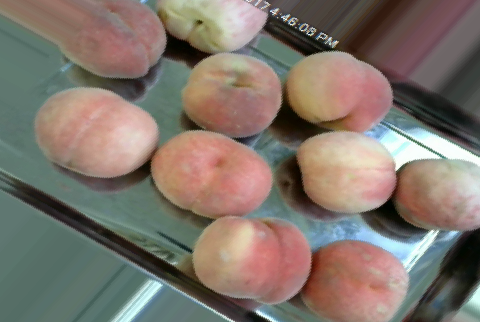Peach: (35, 86, 158, 177), (151, 129, 274, 218), (192, 216, 310, 301), (294, 130, 399, 212), (180, 54, 283, 136), (303, 240, 406, 322), (61, 1, 170, 78), (285, 53, 392, 130), (391, 157, 480, 228), (158, 0, 267, 51)
